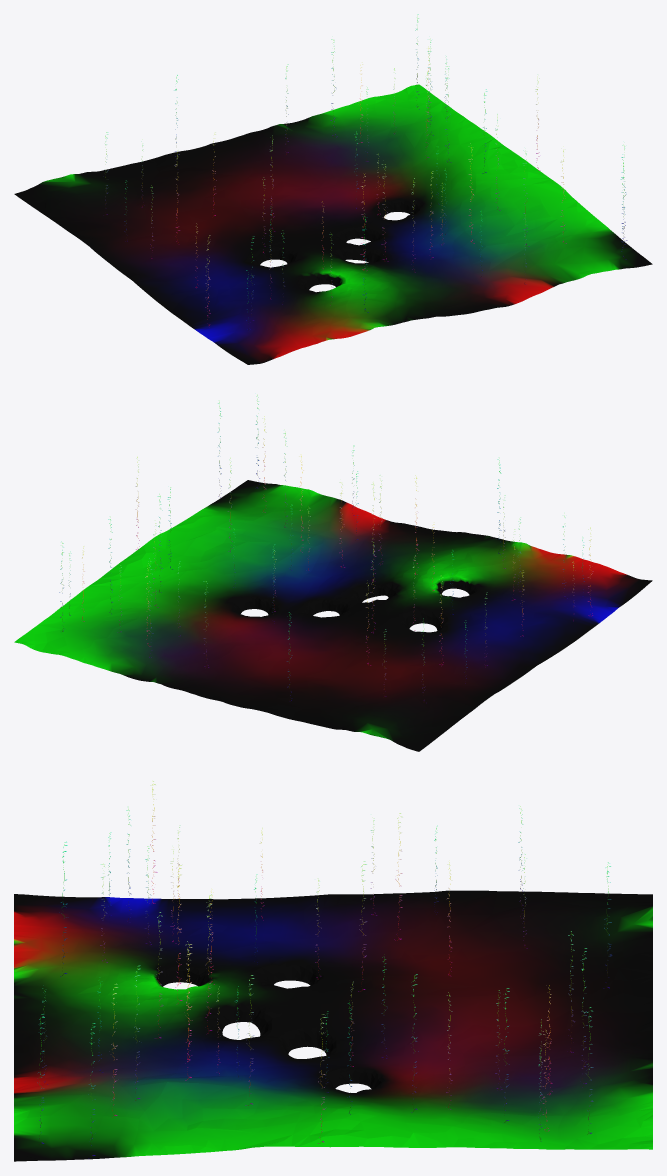
File: Environment.fbx
3 views of the same model, one above another, from view 1: azimuth 30°, elevation 25°; view 2: azimuth 150°, elevation 25°; view 3: azimuth 270°, elevation 25° (orthographic). The views are drawn at different scales.
Parts seen in each view (by area): view 1: Bottom, WaterPlants; view 2: Bottom, WaterPlants; view 3: Bottom, WaterPlants.
Part boxes in pixels (x1,y1,x2,y2): Bottom: (14, 84, 652, 364); WaterPlants: (104, 14, 627, 330); Bottom: (14, 480, 652, 751); WaterPlants: (59, 395, 593, 701); Bottom: (14, 890, 652, 1161); WaterPlants: (37, 781, 611, 1158).
Size of the model in its own units: 503 by 144 by 500.
